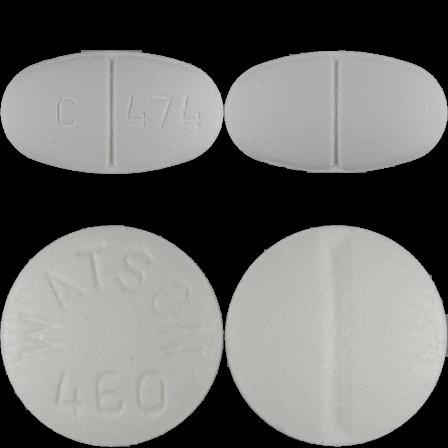63629-1397: (0, 0, 224, 224)
